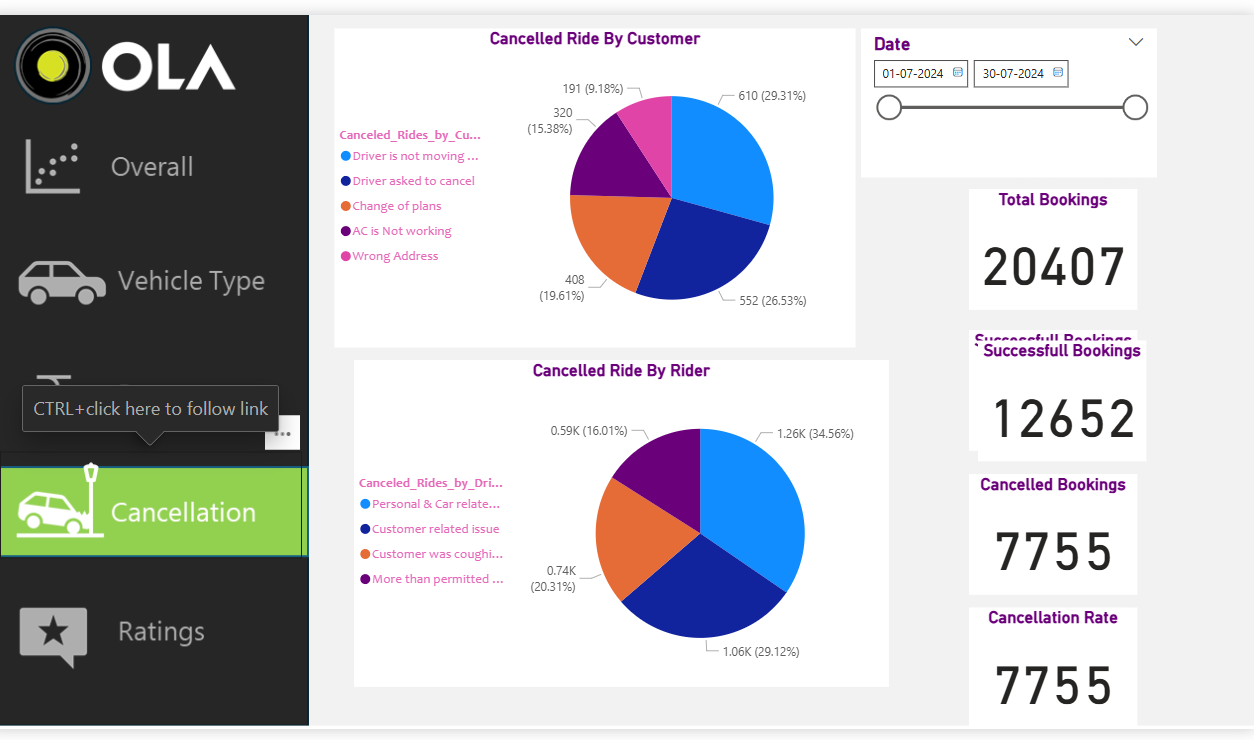

Layout of this report page (visuals, bound fields, positions):
{"tool":"powerbi","page":{"name":"Cancellation","canvas":[1280,720],"ordinal":3},"visuals":[{"type":"actionButton","box":[11.4,230,292.9,91.4],"z":0},{"type":"actionButton","box":[12.9,348.6,292.9,71.4],"z":1000},{"type":"actionButton","box":[11.4,440,305.7,108.6],"z":2000},{"type":"actionButton","box":[12.9,585.7,231.4,82.9],"z":3000},{"type":"pieChart","title":"Cancelled Ride By Customer","fields":{"Category":["Bookings.Canceled_Rides_by_Customer"],"Y":["CountNonNull(Bookings.Canceled_Rides_by_Customer)"]},"box":[350,14,526,322],"z":4000},{"type":"pieChart","title":"Cancelled Ride By Rider","fields":{"Y":["CountNonNull(Bookings.Canceled_Rides_by_Customer)"],"Category":["Bookings.Canceled_Rides_by_Driver"]},"box":[370,348,540,330],"z":5000},{"type":"slicer","fields":{"Values":["Bookings.Date"]},"box":[882,14,298,150],"z":6000},{"type":"card","title":"Total Bookings","fields":{"Values":["Count(Bookings.Booking_ID)"]},"box":[990,176,170,122],"z":7000},{"type":"card","title":"Successfull Bookings","fields":{"Values":["Count(Bookings.Booking_ID)"]},"box":[990,318,170,122],"z":8000},{"type":"card","title":"Cancelled Bookings","fields":{"Values":["Count(Bookings.Booking_ID)"]},"box":[990,464,170,122],"z":9000},{"type":"card","title":"Successfull Bookings","fields":{"Values":["Count(Bookings.Booking_ID)"]},"box":[1000,328,170,122],"z":10000},{"type":"card","title":"Cancellation Rate","fields":{"Values":["Count(Bookings.Booking_ID)"]},"box":[990,598,170,122],"z":11000}]}

Visuals, with their boxes on the page's 1280x720 design canvas (x1, y1, x2, y2). These are canvas units, not pixel positions in the 1254x740 screenshot, which may show the page scaled, cropped or inside an application window:
actionButton: {"left": 11, "top": 230, "right": 304, "bottom": 321}
actionButton: {"left": 13, "top": 349, "right": 306, "bottom": 420}
actionButton: {"left": 11, "top": 440, "right": 317, "bottom": 549}
actionButton: {"left": 13, "top": 586, "right": 244, "bottom": 669}
"Cancelled Ride By Customer" pieChart: {"left": 350, "top": 14, "right": 876, "bottom": 336}
"Cancelled Ride By Rider" pieChart: {"left": 370, "top": 348, "right": 910, "bottom": 678}
slicer - Bookings.Date: {"left": 882, "top": 14, "right": 1180, "bottom": 164}
"Total Bookings" card: {"left": 990, "top": 176, "right": 1160, "bottom": 298}
"Successfull Bookings" card: {"left": 990, "top": 318, "right": 1160, "bottom": 440}
"Cancelled Bookings" card: {"left": 990, "top": 464, "right": 1160, "bottom": 586}
"Successfull Bookings" card: {"left": 1000, "top": 328, "right": 1170, "bottom": 450}
"Cancellation Rate" card: {"left": 990, "top": 598, "right": 1160, "bottom": 720}
